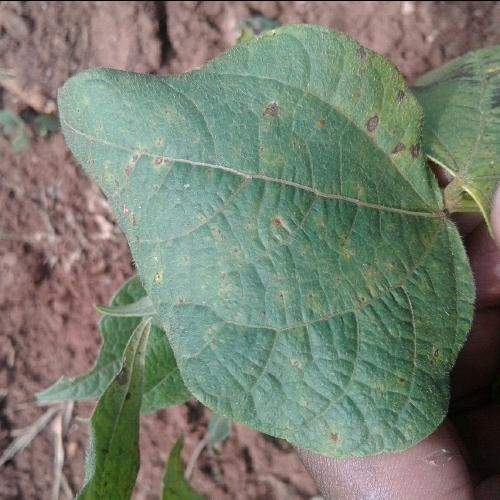hawar: (243, 34, 420, 174), (95, 120, 194, 297), (255, 197, 330, 321)
